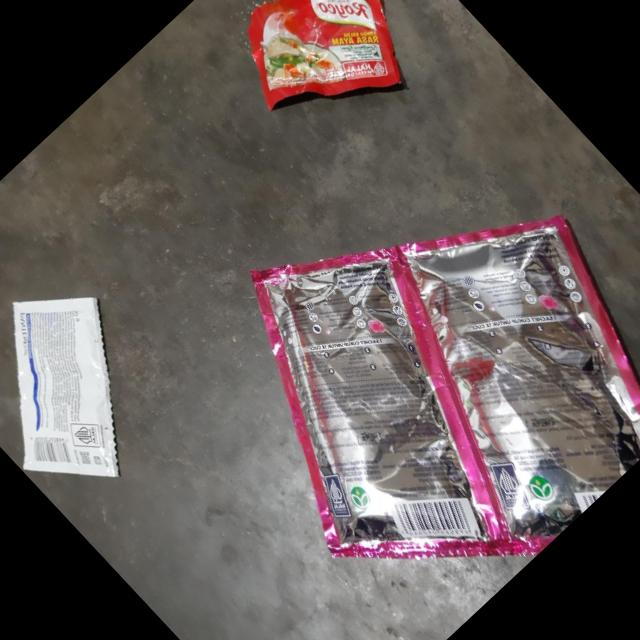KemasanPlastik: (151, 87, 640, 640), (0, 254, 196, 520), (205, 0, 447, 168)
